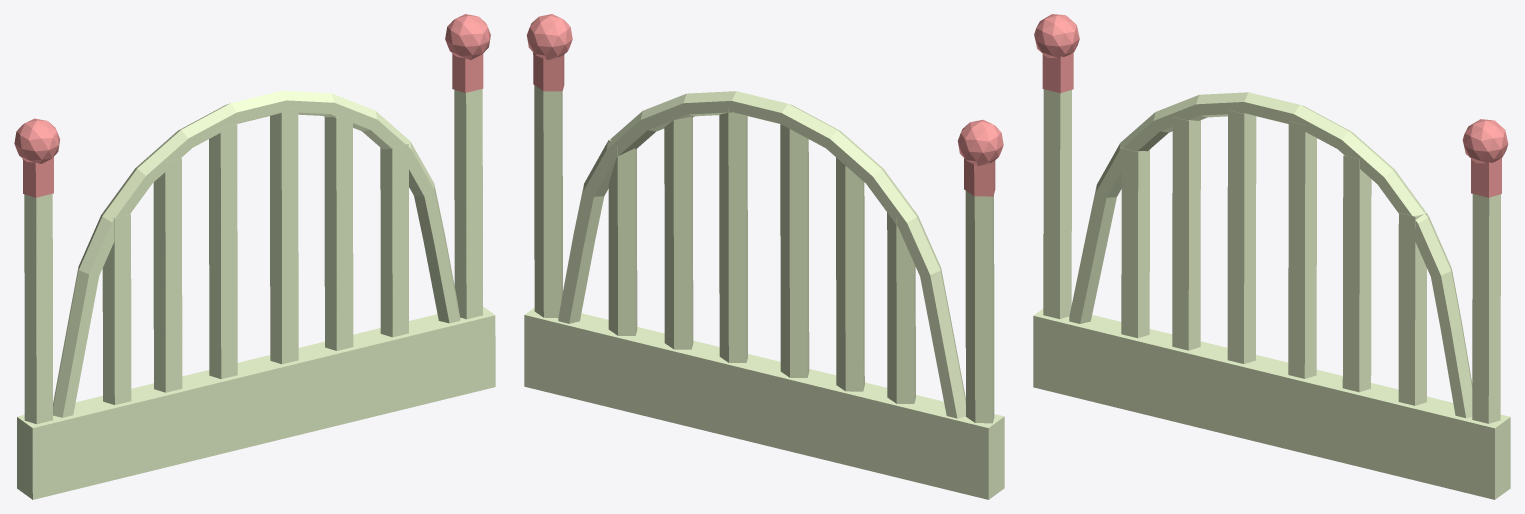
File: fence.fbx
3 views of the same model, side by side, from view 1: azimuth 30°, elevation 25°; view 2: azimuth 150°, elevation 25°; view 3: azimuth 330°, elevation 25° (orthographic).
Parts seen in each view (by area): view 1: Cube.021, Torus.005, Cylinder.031, Cylinder.035, Cylinder.032, Cylinder.030, Cylinder.029, Cylinder.034, Cylinder.033, Cylinder.028, Icosphere.013, Icosphere.012 (+2 smaller); view 2: Cube.021, Torus.005, Cylinder.031, Cylinder.035, Cylinder.032, Cylinder.030, Cylinder.034, Cylinder.029, Cylinder.033, Cylinder.028, Icosphere.012, Icosphere.013 (+2 smaller); view 3: Cube.021, Torus.005, Cylinder.031, Cylinder.035, Cylinder.029, Cylinder.034, Cylinder.032, Cylinder.030, Cylinder.028, Cylinder.033, Icosphere.013, Icosphere.012 (+2 smaller).
Part boxes in pixels (left/top/right/bottom): Cube.021: left=17, top=306, right=495, bottom=499; Torus.005: left=53, top=90, right=460, bottom=417; Cylinder.031: left=270, top=106, right=298, bottom=364; Cylinder.035: left=209, top=124, right=237, bottom=379; Cylinder.032: left=324, top=113, right=353, bottom=350; Cylinder.030: left=24, top=194, right=53, bottom=424; Cylinder.029: left=153, top=158, right=182, bottom=392; Cylinder.034: left=454, top=89, right=482, bottom=319; Cylinder.033: left=380, top=139, right=408, bottom=337; Cylinder.028: left=102, top=213, right=131, bottom=404; Icosphere.013: left=445, top=14, right=490, bottom=60; Icosphere.012: left=14, top=118, right=60, bottom=163; Cube.021: left=524, top=307, right=1004, bottom=499; Torus.005: left=558, top=91, right=965, bottom=418; Cylinder.031: left=719, top=108, right=747, bottom=362; Cylinder.035: left=780, top=124, right=809, bottom=377; Cylinder.032: left=664, top=116, right=693, bottom=349; Cylinder.030: left=965, top=191, right=994, bottom=423; Cylinder.034: left=534, top=85, right=562, bottom=317; Cylinder.029: left=836, top=157, right=864, bottom=391; Cylinder.033: left=608, top=139, right=637, bottom=335; Cylinder.028: left=887, top=211, right=915, bottom=403; Icosphere.012: left=958, top=119, right=1003, bottom=166; Icosphere.013: left=526, top=14, right=572, bottom=60; Cube.021: left=1033, top=309, right=1510, bottom=499; Torus.005: left=1069, top=92, right=1472, bottom=418; Cylinder.031: left=1288, top=121, right=1316, bottom=378; Cylinder.035: left=1227, top=110, right=1256, bottom=363; Cylinder.029: left=1172, top=117, right=1200, bottom=350; Cylinder.034: left=1472, top=194, right=1500, bottom=423; Cylinder.032: left=1342, top=154, right=1371, bottom=392; Cylinder.030: left=1043, top=89, right=1071, bottom=319; Cylinder.028: left=1121, top=147, right=1149, bottom=338; Cylinder.033: left=1398, top=211, right=1427, bottom=405; Icosphere.013: left=1462, top=119, right=1508, bottom=163; Icosphere.012: left=1034, top=14, right=1079, bottom=57.
Bounding box in the file's own units: 393 × 295 × 34.84.
